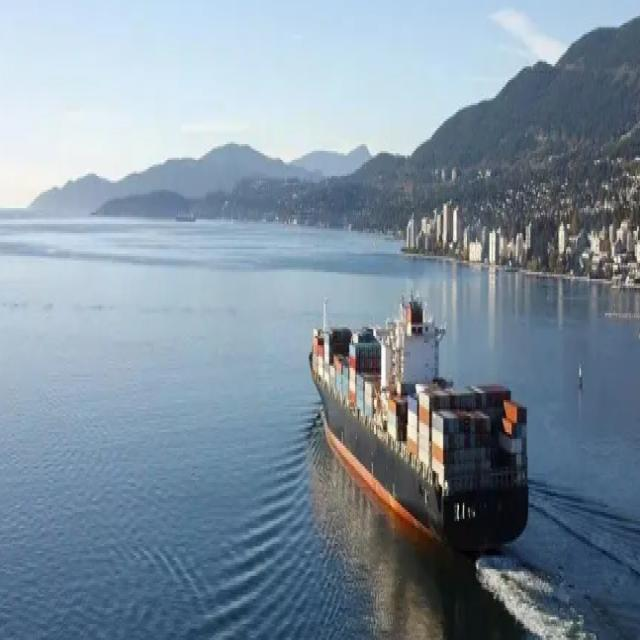cargoship: (308, 264, 535, 564)
